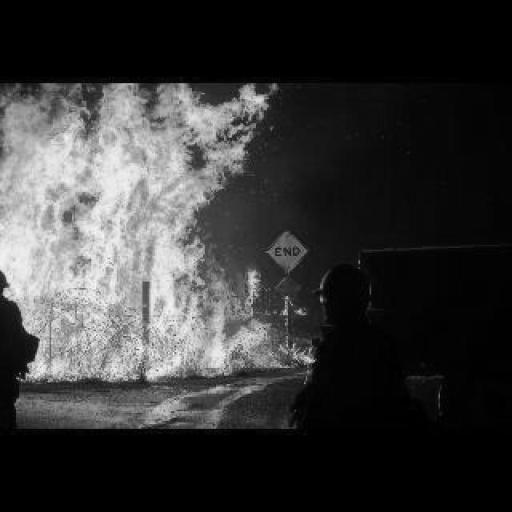smoke: (0, 78, 277, 374)
